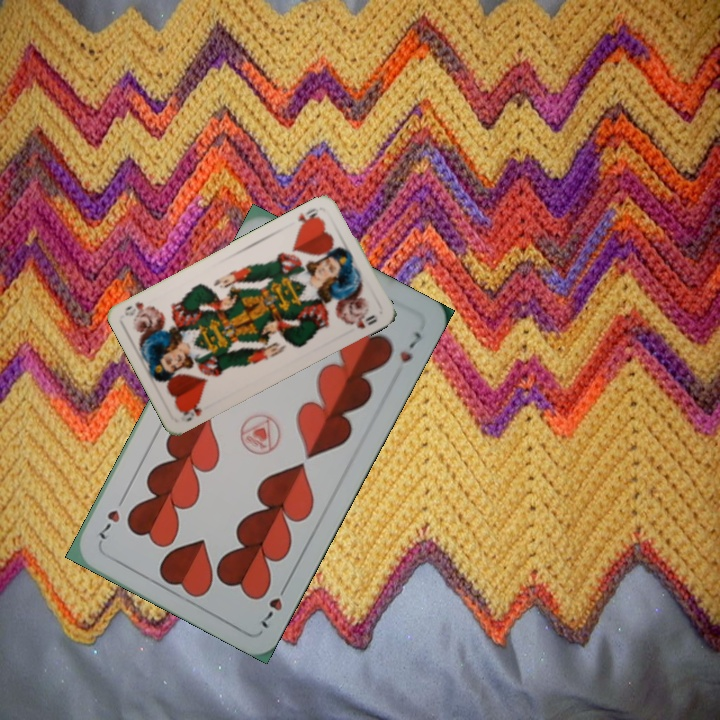H7: (257, 578, 292, 631)
HO: (294, 204, 322, 232), (176, 399, 205, 424)
